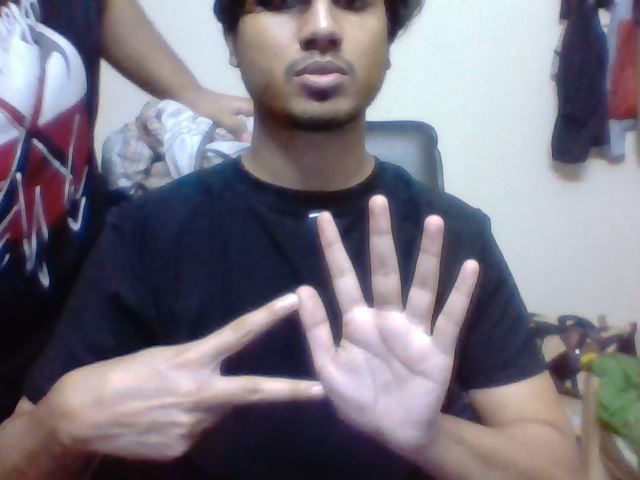N: (212, 290, 299, 408)
